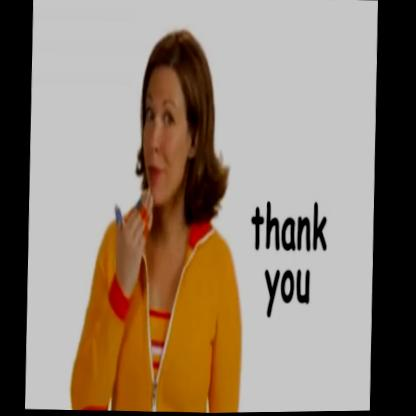ThankYou: (104, 23, 231, 305)
